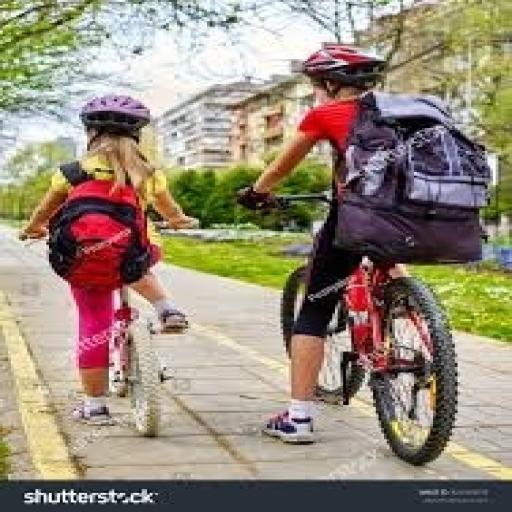cycling: (234, 42, 498, 447), (16, 92, 202, 428)
